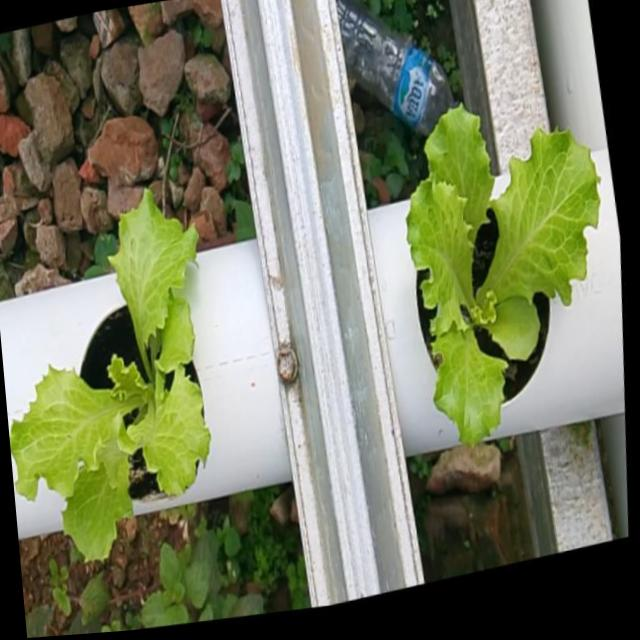Baby: (9, 196, 209, 567), (403, 109, 598, 455)
